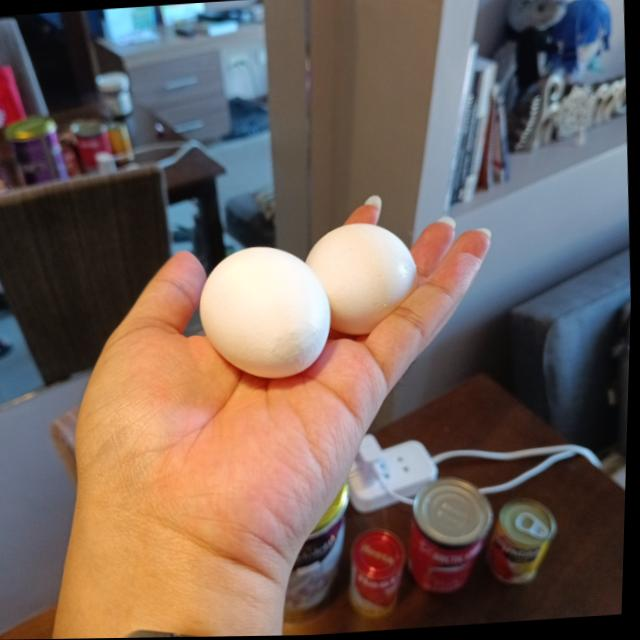egg: (198, 243, 336, 382), (303, 223, 423, 346)
